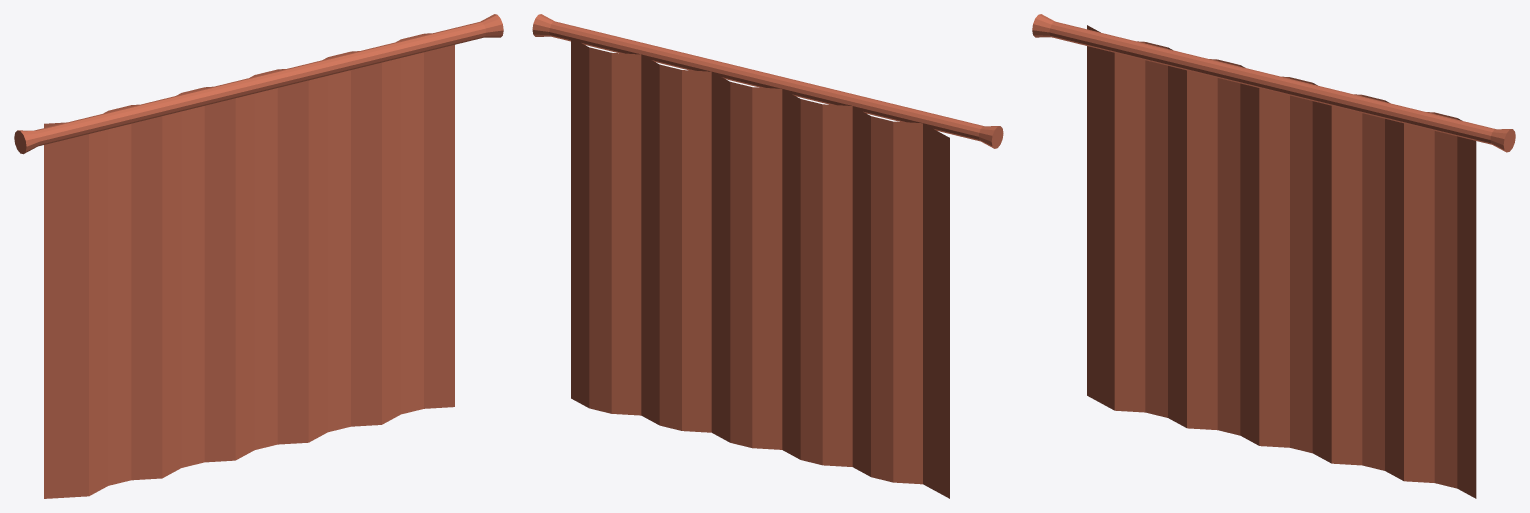
File: RideauFenetre.fbx
3 renders of one model, left to right at view 1: azimuth 30°, elevation 25°; view 2: azimuth 150°, elevation 25°; view 3: azimuth 330°, elevation 25°, orthographic. The views are drawn at different scales.
Visible parts, largest first — view 1: Cylinder.003; view 2: Cylinder.003; view 3: Cylinder.003.
Boxes of the visible parts, left/top/right/bottom form: Cylinder.003: left=14, top=14, right=503, bottom=498; Cylinder.003: left=532, top=14, right=1003, bottom=498; Cylinder.003: left=1032, top=14, right=1515, bottom=498.
Size of the model in its own units: 334 by 259 by 23.21.
